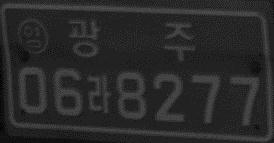0: (16, 65, 47, 115)
2: (151, 71, 185, 122)
6: (52, 67, 83, 118)
7: (228, 74, 260, 126), (190, 73, 222, 123)
8: (115, 71, 147, 120)
광주_D: (68, 19, 195, 61)
라: (85, 74, 112, 113)
영: (15, 17, 50, 54)
